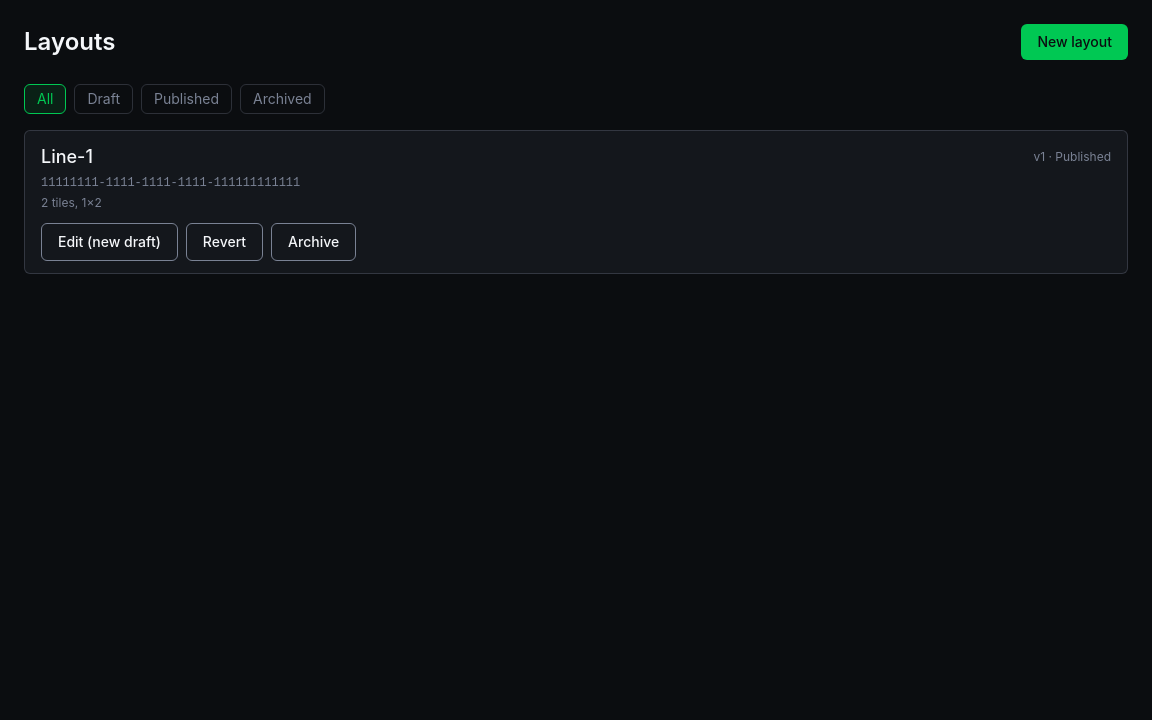
it: LayoutsPage — archive confirmation › LayoutsPage — recovering an archived layout › Edits a published revision under a discarded draft from the PUBLISHED one
Click the button "Edit (new draft)" at (109, 242), box [41,223,178,261]
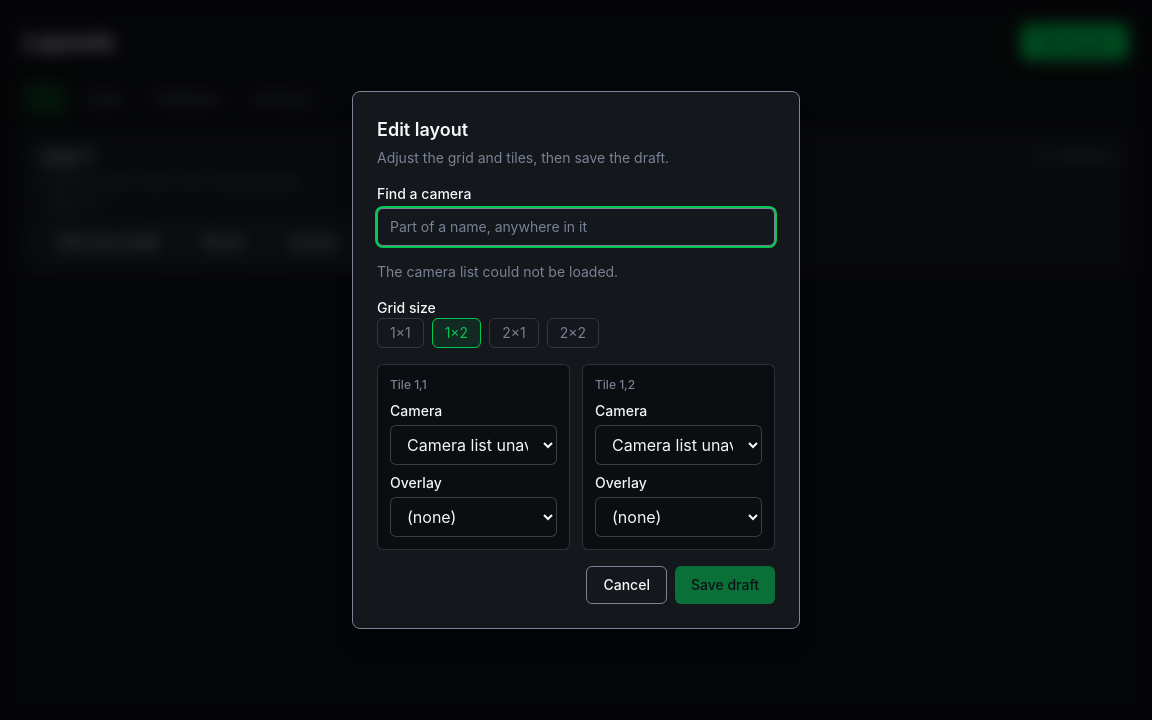
Now the number of dropdowns labelled "Camera" is 2, box [390,425,557,465]; [595,425,762,465]
